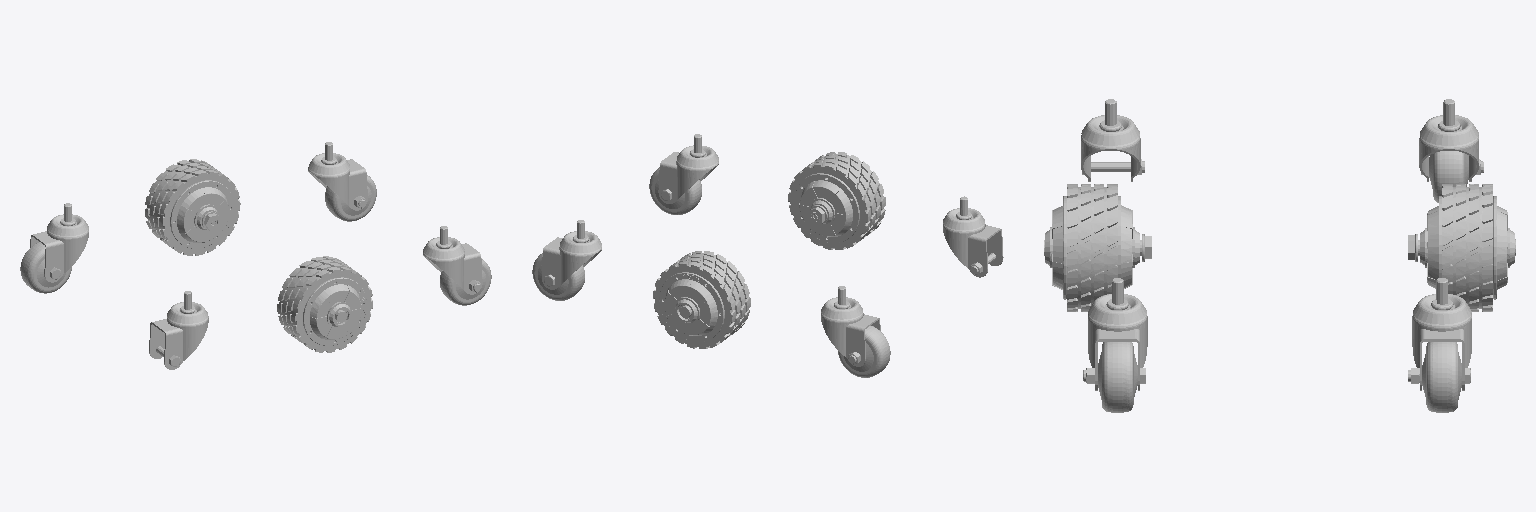
robot.urdf — island_moma_robot:
<?xml version="1.0" encoding="utf-8"?>
<!-- This URDF was automatically created by SolidWorks to URDF Exporter! Originally created by Stephen Brawner (brawner@gmail.com) 
     Commit Version: 1.6.0-4-g7f85cfe  Build Version: 1.6.7995.38578
     For more information, please see http://wiki.ros.org/sw_urdf_exporter -->
<robot
  name="island_moma_robot">
  <link
    name="base_link">
    <inertial>
      <origin
        xyz="0.01685 0.00094185 0.10995"
        rpy="0 0 0" />
      <mass
        value="22.81" />
      <inertia
        ixx="0.48422"
        ixy="-2.2573E-05"
        ixz="-0.00012718"
        iyy="0.48143"
        iyz="2.839E-06"
        izz="0.94153" />
    </inertial>
    <visual>
      <origin
        xyz="0 0 0"
        rpy="0 0 0" />
      <geometry>
        <mesh
          filename="package://island_moma_robot/meshes/base_link.STL" />
      </geometry>
      <material
        name="">
        <color
          rgba="0.8 0.8 0.8 1" />
      </material>
    </visual>
    <collision>
      <origin
        xyz="0 0 0"
        rpy="0 0 0" />
      <geometry>
        <mesh
          filename="package://island_moma_robot/meshes/base_link.STL" />
      </geometry>
    </collision>
  </link>
  <link
    name="link_lw">
    <inertial>
      <origin
        xyz="2.3585E-08 -0.048308 -7.3317E-05"
        rpy="0 0 0" />
      <mass
        value="0.82641" />
      <inertia
        ixx="0.0010589"
        ixy="-3.6959E-10"
        ixz="1.2701E-08"
        iyy="0.0014428"
        iyz="3.042E-08"
        izz="0.0010565" />
    </inertial>
    <visual>
      <origin
        xyz="0 0 0"
        rpy="0 0 0" />
      <geometry>
        <mesh
          filename="package://island_moma_robot/meshes/link_lw.STL" />
      </geometry>
      <material
        name="">
        <color
          rgba="0.8 0.8 0.8 1" />
      </material>
    </visual>
    <collision>
      <origin
        xyz="0 0 0"
        rpy="0 0 0" />
      <geometry>
        <mesh
          filename="package://island_moma_robot/meshes/link_lw.STL" />
      </geometry>
    </collision>
  </link>
  <joint
    name="joint_lw"
    type="continuous">
    <origin
      xyz="0 0.2365 0.0645999999999994"
      rpy="0 0 0" />
    <parent
      link="base_link" />
    <child
      link="link_lw" />
    <axis
      xyz="0 1 0" />
  </joint>
  <link
    name="link_rw">
    <inertial>
      <origin
        xyz="-7.3313E-05 0.048308 7.5595E-07"
        rpy="0 0 0" />
      <mass
        value="0.82641" />
      <inertia
        ixx="0.0010565"
        ixy="-3.0415E-08"
        ixz="3.7059E-08"
        iyy="0.0014428"
        iyz="6.7343E-10"
        izz="0.0010589" />
    </inertial>
    <visual>
      <origin
        xyz="0 0 0"
        rpy="0 0 0" />
      <geometry>
        <mesh
          filename="package://island_moma_robot/meshes/link_rw.STL" />
      </geometry>
      <material
        name="">
        <color
          rgba="0.8 0.8 0.8 1" />
      </material>
    </visual>
    <collision>
      <origin
        xyz="0 0 0"
        rpy="0 0 0" />
      <geometry>
        <mesh
          filename="package://island_moma_robot/meshes/link_rw.STL" />
      </geometry>
    </collision>
  </link>
  <joint
    name="joint_rw"
    type="continuous">
    <origin
      xyz="0 -0.2365 0.0645999999999994"
      rpy="0 0 0" />
    <parent
      link="base_link" />
    <child
      link="link_rw" />
    <axis
      xyz="0 -1 0" />
  </joint>
  <link
    name="link_fucl">
    <inertial>
      <origin
        xyz="0.010603 -0.00047384 -0.035048"
        rpy="0 0 0" />
      <mass
        value="0.060047" />
      <inertia
        ixx="4.9536E-05"
        ixy="7.0829E-07"
        ixz="1.757E-05"
        iyy="5.4338E-05"
        iyz="-1.1867E-06"
        izz="4.0076E-05" />
    </inertial>
    <visual>
      <origin
        xyz="0 0 0"
        rpy="0 0 0" />
      <geometry>
        <mesh
          filename="package://island_moma_robot/meshes/link_fucl.STL" />
      </geometry>
      <material
        name="">
        <color
          rgba="0.8 0.8 0.8 1" />
      </material>
    </visual>
    <collision>
      <origin
        xyz="0 0 0"
        rpy="0 0 0" />
      <geometry>
        <mesh
          filename="package://island_moma_robot/meshes/link_fucl.STL" />
      </geometry>
    </collision>
  </link>
  <joint
    name="joint_fucl"
    type="continuous">
    <origin
      xyz="0.2095 0.163 0.11396325"
      rpy="0 0 0" />
    <parent
      link="base_link" />
    <child
      link="link_fucl" />
    <axis
      xyz="0 0 1" />
  </joint>
  <link
    name="link_fclw">
    <inertial>
      <origin
        xyz="5.5511E-17 -0.016 1.4572E-16"
        rpy="0 0 0" />
      <mass
        value="0.13673" />
      <inertia
        ixx="5.6735E-05"
        ixy="-7.0529E-20"
        ixz="-4.2358E-12"
        iyy="8.8555E-05"
        iyz="5.664E-22"
        izz="5.6744E-05" />
    </inertial>
    <visual>
      <origin
        xyz="0 0 0"
        rpy="0 0 0" />
      <geometry>
        <mesh
          filename="package://island_moma_robot/meshes/link_fclw.STL" />
      </geometry>
      <material
        name="">
        <color
          rgba="0.8 0.8 0.8 1" />
      </material>
    </visual>
    <collision>
      <origin
        xyz="0 0 0"
        rpy="0 0 0" />
      <geometry>
        <mesh
          filename="package://island_moma_robot/meshes/link_fclw.STL" />
      </geometry>
    </collision>
  </link>
  <joint
    name="joint_fclw"
    type="continuous">
    <origin
      xyz="0.0355 0.016 -0.07676325"
      rpy="0 0 0" />
    <parent
      link="link_fucl" />
    <child
      link="link_fclw" />
    <axis
      xyz="0 1 0" />
  </joint>
  <link
    name="link_fucr">
    <inertial>
      <origin
        xyz="0.010603 -0.00047384 -0.035048"
        rpy="0 0 0" />
      <mass
        value="0.060047" />
      <inertia
        ixx="4.9536E-05"
        ixy="7.0829E-07"
        ixz="1.757E-05"
        iyy="5.4338E-05"
        iyz="-1.1867E-06"
        izz="4.0076E-05" />
    </inertial>
    <visual>
      <origin
        xyz="0 0 0"
        rpy="0 0 0" />
      <geometry>
        <mesh
          filename="package://island_moma_robot/meshes/link_fucr.STL" />
      </geometry>
      <material
        name="">
        <color
          rgba="0.8 0.8 0.8 1" />
      </material>
    </visual>
    <collision>
      <origin
        xyz="0 0 0"
        rpy="0 0 0" />
      <geometry>
        <mesh
          filename="package://island_moma_robot/meshes/link_fucr.STL" />
      </geometry>
    </collision>
  </link>
  <joint
    name="joint_fucr"
    type="continuous">
    <origin
      xyz="0.209500000000001 -0.163 0.11396325"
      rpy="0 0 0" />
    <parent
      link="base_link" />
    <child
      link="link_fucr" />
    <axis
      xyz="0 0 1" />
  </joint>
  <link
    name="link_fcrw">
    <inertial>
      <origin
        xyz="5.5511E-17 -0.016 1.1796E-16"
        rpy="0 0 0" />
      <mass
        value="0.13673" />
      <inertia
        ixx="5.6735E-05"
        ixy="-6.4903E-20"
        ixz="-4.2358E-12"
        iyy="8.8555E-05"
        iyz="-7.0687E-21"
        izz="5.6744E-05" />
    </inertial>
    <visual>
      <origin
        xyz="0 0 0"
        rpy="0 0 0" />
      <geometry>
        <mesh
          filename="package://island_moma_robot/meshes/link_fcrw.STL" />
      </geometry>
      <material
        name="">
        <color
          rgba="0.8 0.8 0.8 1" />
      </material>
    </visual>
    <collision>
      <origin
        xyz="0 0 0"
        rpy="0 0 0" />
      <geometry>
        <mesh
          filename="package://island_moma_robot/meshes/link_fcrw.STL" />
      </geometry>
    </collision>
  </link>
  <joint
    name="joint_fcrw"
    type="continuous">
    <origin
      xyz="0.0355 0.016 -0.07676325"
      rpy="0 0 0" />
    <parent
      link="link_fucr" />
    <child
      link="link_fcrw" />
    <axis
      xyz="0 1 0" />
  </joint>
  <link
    name="link_bucl">
    <inertial>
      <origin
        xyz="-0.010603 0.00047384 -0.035048"
        rpy="0 0 0" />
      <mass
        value="0.060047" />
      <inertia
        ixx="4.9536E-05"
        ixy="7.0829E-07"
        ixz="-1.757E-05"
        iyy="5.4338E-05"
        iyz="1.1867E-06"
        izz="4.0076E-05" />
    </inertial>
    <visual>
      <origin
        xyz="0 0 0"
        rpy="0 0 0" />
      <geometry>
        <mesh
          filename="package://island_moma_robot/meshes/link_bucl.STL" />
      </geometry>
      <material
        name="">
        <color
          rgba="0.8 0.8 0.8 1" />
      </material>
    </visual>
    <collision>
      <origin
        xyz="0 0 0"
        rpy="0 0 0" />
      <geometry>
        <mesh
          filename="package://island_moma_robot/meshes/link_bucl.STL" />
      </geometry>
    </collision>
  </link>
  <joint
    name="joint_bucl"
    type="continuous">
    <origin
      xyz="-0.215 0.17 0.113963249999999"
      rpy="0 0 0" />
    <parent
      link="base_link" />
    <child
      link="link_bucl" />
    <axis
      xyz="0 0 1" />
  </joint>
  <link
    name="link_bclw">
    <inertial>
      <origin
        xyz="0 -0.016 1.1102E-16"
        rpy="0 0 0" />
      <mass
        value="0.13673" />
      <inertia
        ixx="5.6735E-05"
        ixy="-1.4772E-20"
        ixz="4.2358E-12"
        iyy="8.8555E-05"
        iyz="4.577E-21"
        izz="5.6744E-05" />
    </inertial>
    <visual>
      <origin
        xyz="0 0 0"
        rpy="0 0 0" />
      <geometry>
        <mesh
          filename="package://island_moma_robot/meshes/link_bclw.STL" />
      </geometry>
      <material
        name="">
        <color
          rgba="0.8 0.8 0.8 1" />
      </material>
    </visual>
    <collision>
      <origin
        xyz="0 0 0"
        rpy="0 0 0" />
      <geometry>
        <mesh
          filename="package://island_moma_robot/meshes/link_bclw.STL" />
      </geometry>
    </collision>
  </link>
  <joint
    name="joint_bclw"
    type="continuous">
    <origin
      xyz="-0.0355 0.016 -0.07676325"
      rpy="0 0 0" />
    <parent
      link="link_bucl" />
    <child
      link="link_bclw" />
    <axis
      xyz="0 -1 0" />
  </joint>
  <link
    name="link_bucr">
    <inertial>
      <origin
        xyz="-0.010603 0.00047384 -0.035048"
        rpy="0 0 0" />
      <mass
        value="0.060047" />
      <inertia
        ixx="4.9536E-05"
        ixy="7.0829E-07"
        ixz="-1.757E-05"
        iyy="5.4338E-05"
        iyz="1.1867E-06"
        izz="4.0076E-05" />
    </inertial>
    <visual>
      <origin
        xyz="0 0 0"
        rpy="0 0 0" />
      <geometry>
        <mesh
          filename="package://island_moma_robot/meshes/link_bucr.STL" />
      </geometry>
      <material
        name="">
        <color
          rgba="0.8 0.8 0.8 1" />
      </material>
    </visual>
    <collision>
      <origin
        xyz="0 0 0"
        rpy="0 0 0" />
      <geometry>
        <mesh
          filename="package://island_moma_robot/meshes/link_bucr.STL" />
      </geometry>
    </collision>
  </link>
  <joint
    name="joint_bucr"
    type="continuous">
    <origin
      xyz="-0.215 -0.17 0.113963249999999"
      rpy="0 0 0" />
    <parent
      link="base_link" />
    <child
      link="link_bucr" />
    <axis
      xyz="0 0 1" />
  </joint>
  <link
    name="link_bcrw">
    <inertial>
      <origin
        xyz="0 -0.016 1.0408E-16"
        rpy="0 0 0" />
      <mass
        value="0.13673" />
      <inertia
        ixx="5.6735E-05"
        ixy="-6.639E-21"
        ixz="4.2358E-12"
        iyy="8.8555E-05"
        iyz="-2.9093E-21"
        izz="5.6744E-05" />
    </inertial>
    <visual>
      <origin
        xyz="0 0 0"
        rpy="0 0 0" />
      <geometry>
        <mesh
          filename="package://island_moma_robot/meshes/link_bcrw.STL" />
      </geometry>
      <material
        name="">
        <color
          rgba="0.8 0.8 0.8 1" />
      </material>
    </visual>
    <collision>
      <origin
        xyz="0 0 0"
        rpy="0 0 0" />
      <geometry>
        <mesh
          filename="package://island_moma_robot/meshes/link_bcrw.STL" />
      </geometry>
    </collision>
  </link>
  <joint
    name="joint_bcrw"
    type="continuous">
    <origin
      xyz="-0.0355 0.016 -0.07676325"
      rpy="0 0 0" />
    <parent
      link="link_bucr" />
    <child
      link="link_bcrw" />
    <axis
      xyz="0 -1 0" />
  </joint>
</robot>

--- Facts derived from the render (not from the file) ---
3 views of the same robot in one strip: view 1: azimuth 30°, elevation 25°; view 2: azimuth 150°, elevation 25°; view 3: azimuth 270°, elevation 25° (orthographic).
Robot: island_moma_robot — 11 links, 10 joints (10 continuous); root link base_link; default pose: every joint at zero.
Links seen in each view (by area): view 1: link_rw, link_lw, link_bucr, link_bucl, link_fucl, link_fucr, link_bclw, link_fclw, link_fcrw; view 2: link_rw, link_lw, link_bucr, link_bucl, link_fucl, link_fucr, link_bclw, link_fcrw, link_fclw; view 3: link_rw, link_lw, link_fucl, link_fucr, link_bucr, link_bucl, link_fcrw, link_fclw, link_bclw.
Link boxes in pixels (x1=…): link_rw: x1=277, y1=256, x2=372, y2=352; link_lw: x1=145, y1=159, x2=240, y2=255; link_bucr: x1=149, y1=291, x2=208, y2=369; link_bucl: x1=30, y1=203, x2=88, y2=282; link_fucl: x1=308, y1=142, x2=367, y2=210; link_fucr: x1=423, y1=226, x2=482, y2=294; link_bclw: x1=20, y1=242, x2=71, y2=293; link_fclw: x1=325, y1=175, x2=376, y2=221; link_fcrw: x1=440, y1=258, x2=491, y2=305; link_rw: x1=788, y1=152, x2=885, y2=249; link_lw: x1=653, y1=251, x2=750, y2=348; link_bucr: x1=943, y1=196, x2=1003, y2=277; link_bucl: x1=821, y1=286, x2=880, y2=366; link_fucl: x1=542, y1=220, x2=601, y2=289; link_fucr: x1=658, y1=134, x2=718, y2=203; link_bclw: x1=838, y1=326, x2=890, y2=377; link_fcrw: x1=649, y1=167, x2=701, y2=214; link_fclw: x1=532, y1=253, x2=584, y2=300; link_rw: x1=1044, y1=184, x2=1151, y2=311; link_lw: x1=1408, y1=184, x2=1515, y2=311; link_fucl: x1=1408, y1=278, x2=1471, y2=390; link_fucr: x1=1083, y1=278, x2=1147, y2=390; link_bucr: x1=1081, y1=99, x2=1144, y2=181; link_bucl: x1=1419, y1=99, x2=1483, y2=181; link_fcrw: x1=1098, y1=342, x2=1137, y2=412; link_fclw: x1=1422, y1=342, x2=1461, y2=412; link_bclw: x1=1429, y1=151, x2=1468, y2=202.
Size in the robot's own frame: 0.5705 by 0.473 by 0.1289 metres.
Meshes: 11 distinct files referenced, 9 mesh visuals loaded (9 binary STL); not drawn: 2 (reference not matched to a file when rendering).
